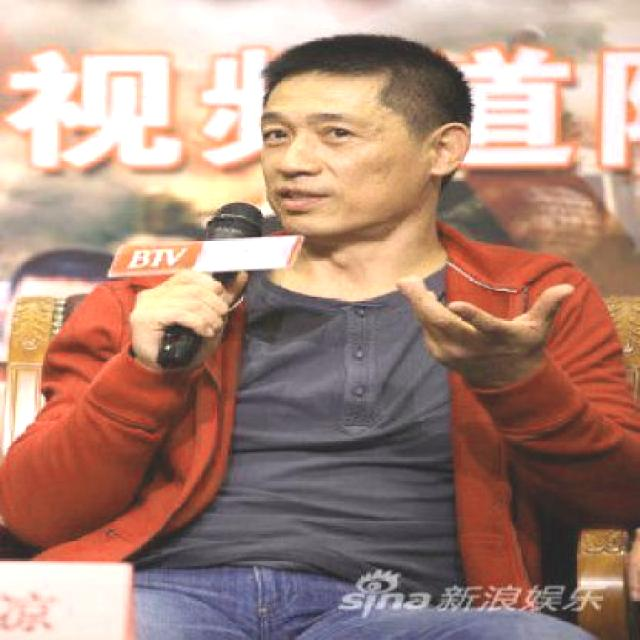hand_noglove: (391, 272, 575, 372), (122, 268, 246, 363)
head_nohelmet: (251, 18, 474, 108)
person: (14, 14, 640, 640), (260, 83, 406, 237)
